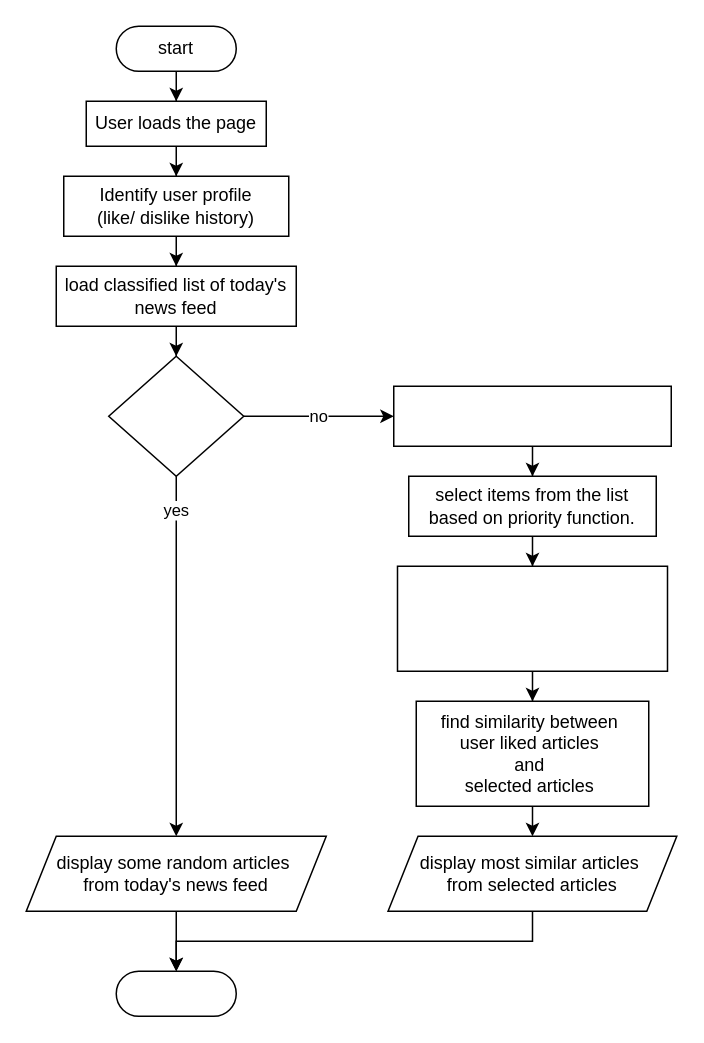
Image size: 704x1043. Some labels were removed from this diagram. The centre of each missing label's shape, as x and y in pixels:
"end" goes at (175,993).
"get word embeddings of both user liked articles and selected articles" goes at (532,618).
"is new user?" goes at (175,415).
"sort descending news categories based on user profile" goes at (531,415).
